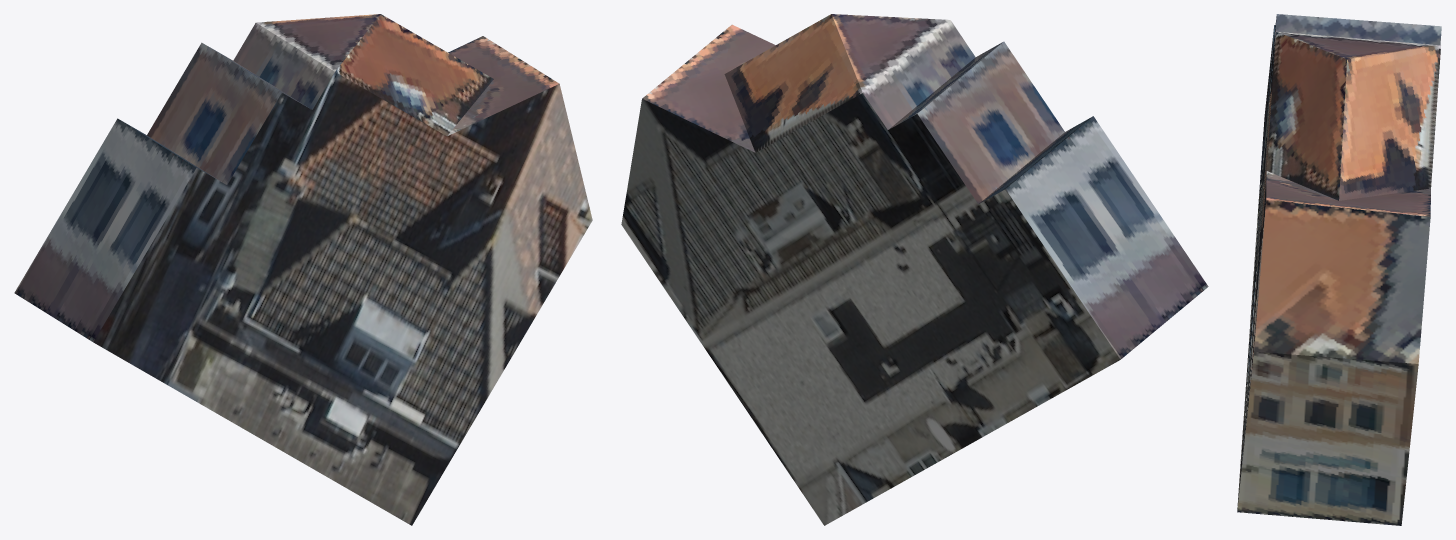
3 views of the same model, side by side, from view 1: azimuth 30°, elevation 25°; view 2: azimuth 150°, elevation 25°; view 3: azimuth 270°, elevation 25° (orthographic). The views are drawn at different scales.
Parts seen in each view (by area): view 1: BAG_0599100000760369 (×4); view 2: BAG_0599100000760369 (×4); view 3: BAG_0599100000760369 (×3).
Part boxes in pixels (x1,y1,x2,y2): BAG_0599100000760369 (×4): (14,14,592,525); BAG_0599100000760369 (×4): (621,14,1208,525); BAG_0599100000760369 (×3): (1237,14,1441,525).
Size of the model in its own units: 18.91 by 17.29 by 6.73.
Materials: 4 (4 with a texture image).
